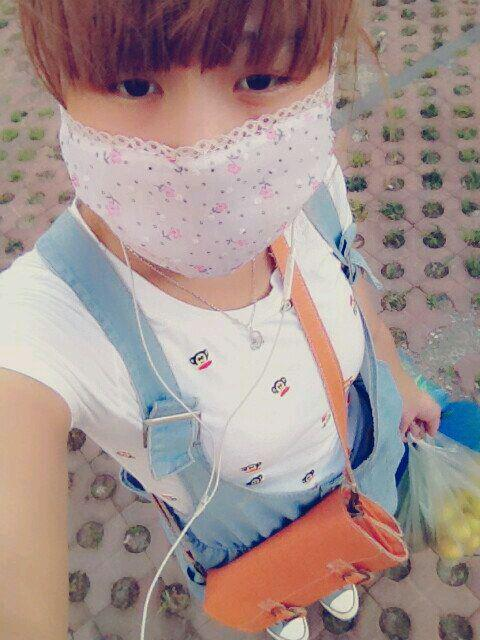WRONG: (59, 21, 324, 286)
